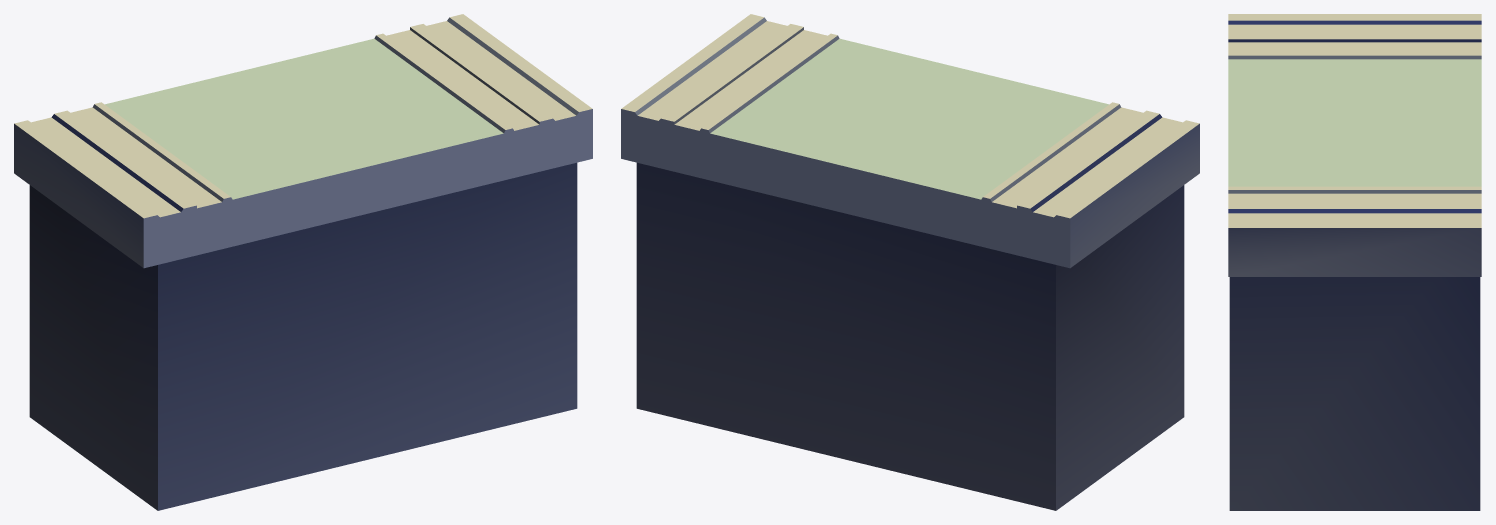
File: BridgeLegless.gltf
The picture shows the model from 3 angles, left to right: view 1: azimuth 30°, elevation 25°; view 2: azimuth 150°, elevation 25°; view 3: azimuth 270°, elevation 25°; orthographic projection. The views are drawn at different scales.
Parts seen in each view (by area): view 1: BridgeLeglessMesh; view 2: BridgeLeglessMesh; view 3: BridgeLeglessMesh.
Boxes of the visible parts, box(x1,y1,x2,y2) form: BridgeLeglessMesh: box(14, 14, 592, 510); BridgeLeglessMesh: box(621, 14, 1199, 510); BridgeLeglessMesh: box(1228, 14, 1481, 510).
Bounding box in the file's own units: 8 × 5.05 × 4.
